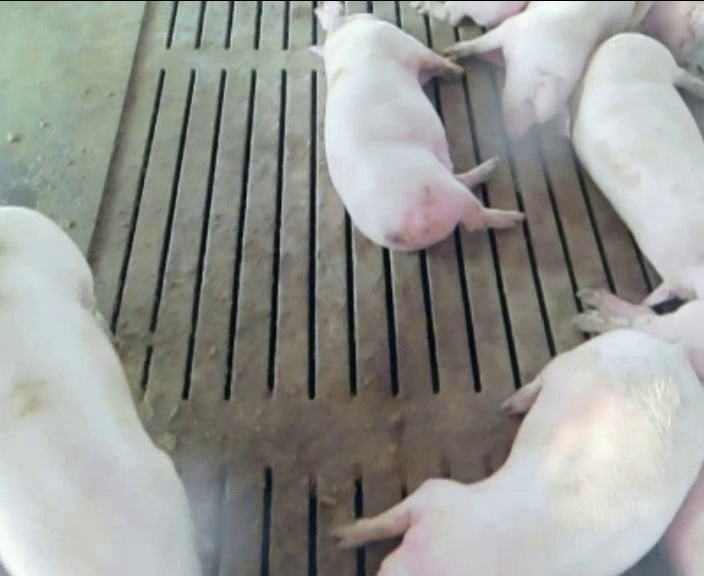pig: (310, 2, 521, 250), (568, 33, 703, 307), (445, 2, 636, 139)
